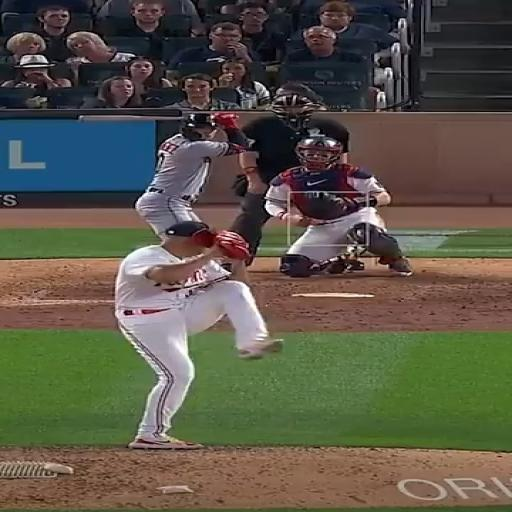bat: (78, 115, 228, 123)
